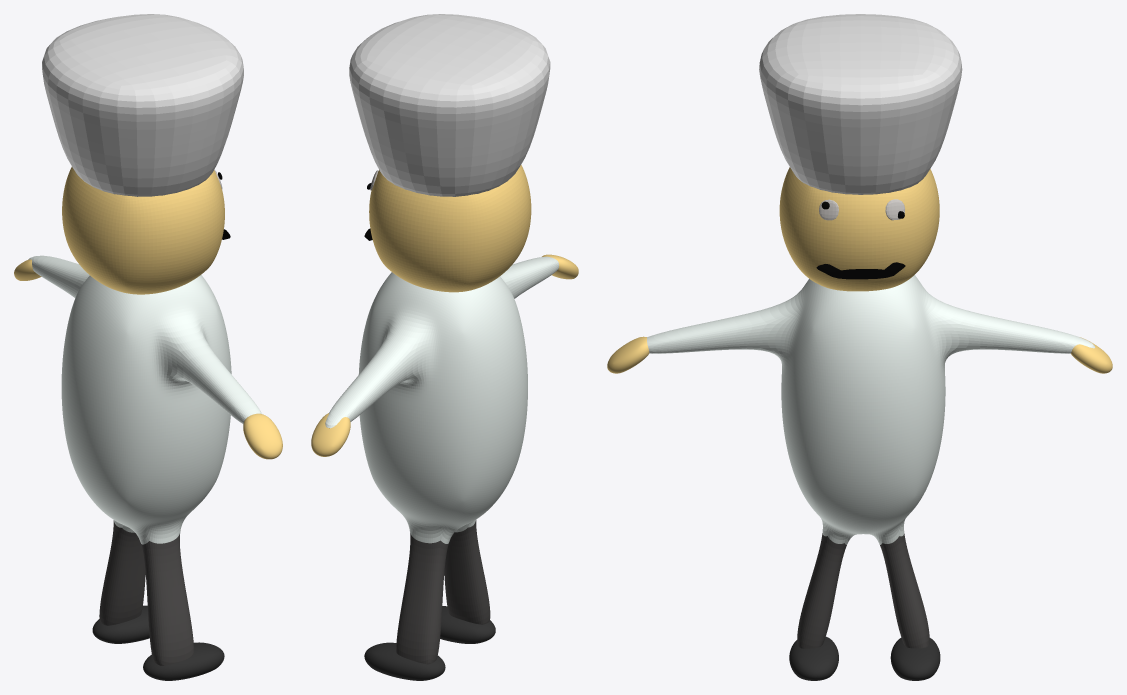
File: Chef.fbx
3 views of the same model, side by side, from view 1: azimuth 30°, elevation 25°; view 2: azimuth 150°, elevation 25°; view 3: azimuth 270°, elevation 25° (orthographic).
Visible parts, largest first — view 1: Cube, Cube.001, Cube.004, Cube.005, Cube.002, Cube.006; view 2: Cube, Cube.001, Cube.004, Cube.006, Cube.005, Cube.003, Cube.002; view 3: Cube, Cube.001, Cube.004, Cube.006, Cube.005, Cube.002, Cube.017, Cube.003.
Boxes of the visible parts, x1,y1,x2,y2 form: Cube: [28, 255, 261, 665]; Cube.001: [42, 14, 243, 196]; Cube.004: [62, 167, 224, 294]; Cube.005: [143, 642, 224, 680]; Cube.002: [243, 413, 282, 459]; Cube.006: [92, 605, 149, 643]; Cube: [325, 256, 559, 664]; Cube.001: [349, 14, 550, 196]; Cube.004: [369, 165, 531, 292]; Cube.006: [364, 642, 445, 680]; Cube.005: [440, 606, 495, 643]; Cube.003: [311, 413, 350, 456]; Cube.002: [542, 254, 578, 279]; Cube: [647, 275, 1094, 648]; Cube.001: [759, 14, 962, 194]; Cube.004: [779, 167, 939, 291]; Cube.006: [890, 637, 940, 680]; Cube.005: [789, 636, 838, 680]; Cube.002: [607, 336, 649, 373]; Cube.017: [816, 262, 905, 279]; Cube.003: [1071, 337, 1112, 373].
Bounding box in the file's own units: 87.33 × 298 × 220.
